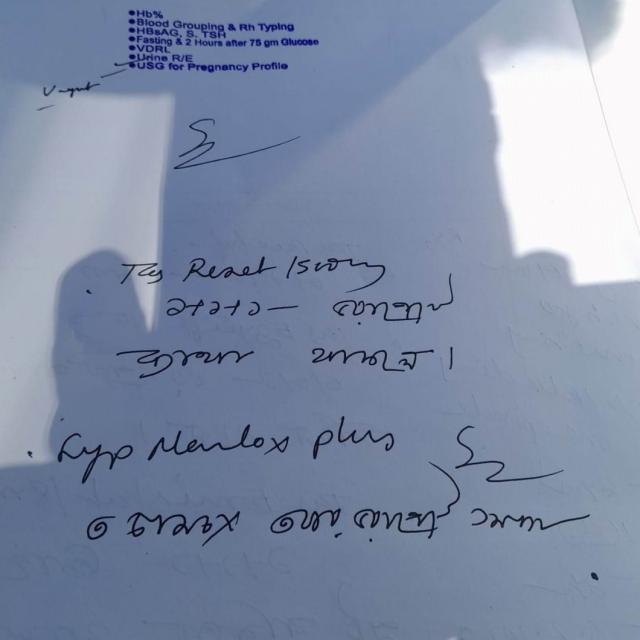Reset: (179, 232, 284, 287)
